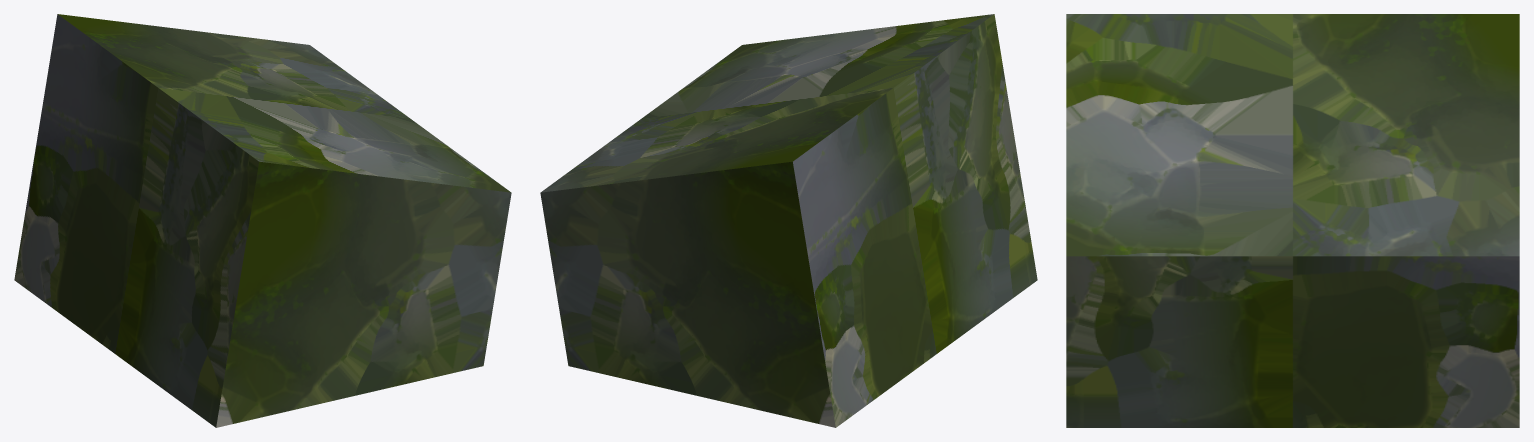
Rendered from Arch_Voussoir_09.glb.
3 views of the same model, side by side, from view 1: azimuth 30°, elevation 25°; view 2: azimuth 150°, elevation 25°; view 3: azimuth 270°, elevation 25° (orthographic). The views are drawn at different scales.
Parts seen in each view (by area): view 1: Arch_Voussoir_09__Arch_Voussoir_09; view 2: Arch_Voussoir_09__Arch_Voussoir_09; view 3: Arch_Voussoir_09__Arch_Voussoir_09.
Part boxes in pixels (<box>): Arch_Voussoir_09__Arch_Voussoir_09: <box>14,14,511,427</box>; Arch_Voussoir_09__Arch_Voussoir_09: <box>540,14,1037,427</box>; Arch_Voussoir_09__Arch_Voussoir_09: <box>1066,14,1519,427</box>.
Bounding box in the file's own units: 0.8286 × 0.6942 × 0.98.
1 material, 1 textured.
